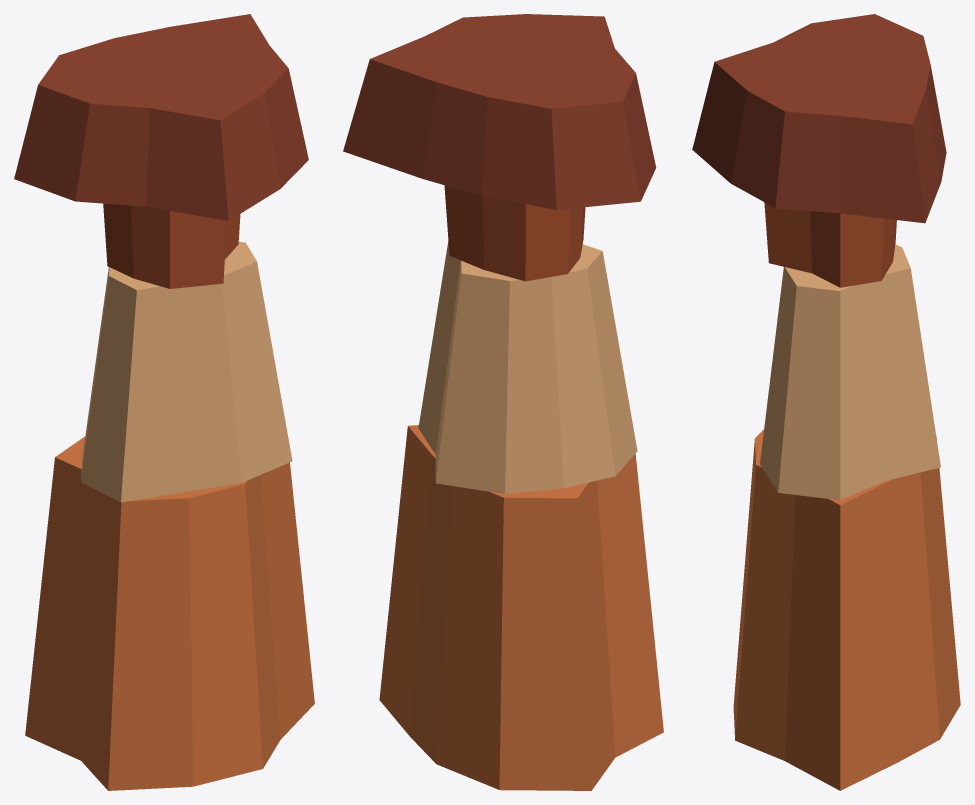
The model's file is dune_hoodoo.glb.
The picture shows the model from 3 angles, left to right: view 1: azimuth 30°, elevation 25°; view 2: azimuth 150°, elevation 25°; view 3: azimuth 270°, elevation 25°; orthographic projection. The views are drawn at different scales.
Visible parts, largest first — view 1: Hoodoo; view 2: Hoodoo; view 3: Hoodoo.
Boxes of the visible parts, <box> form: Hoodoo: <box>14,14,314,790</box>; Hoodoo: <box>343,14,663,790</box>; Hoodoo: <box>692,14,960,790</box>.
Bounding box in the file's own units: 7.36 × 16.8 × 6.25.
